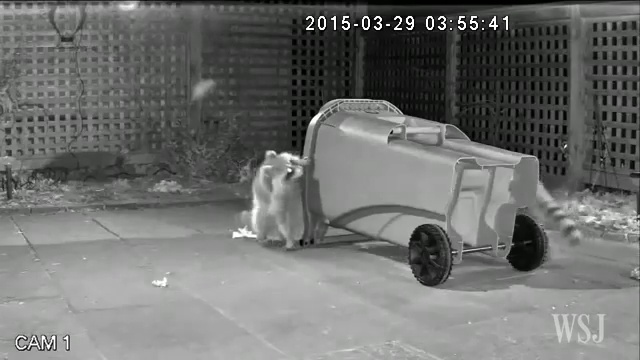raccoon: (237, 148, 315, 258)
